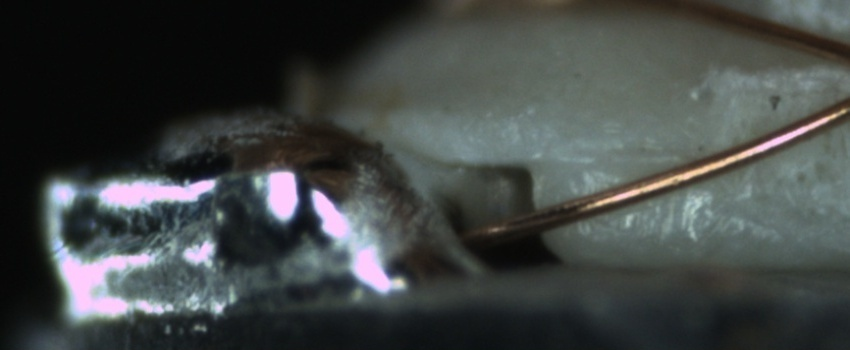DL: (560, 124, 706, 188)
